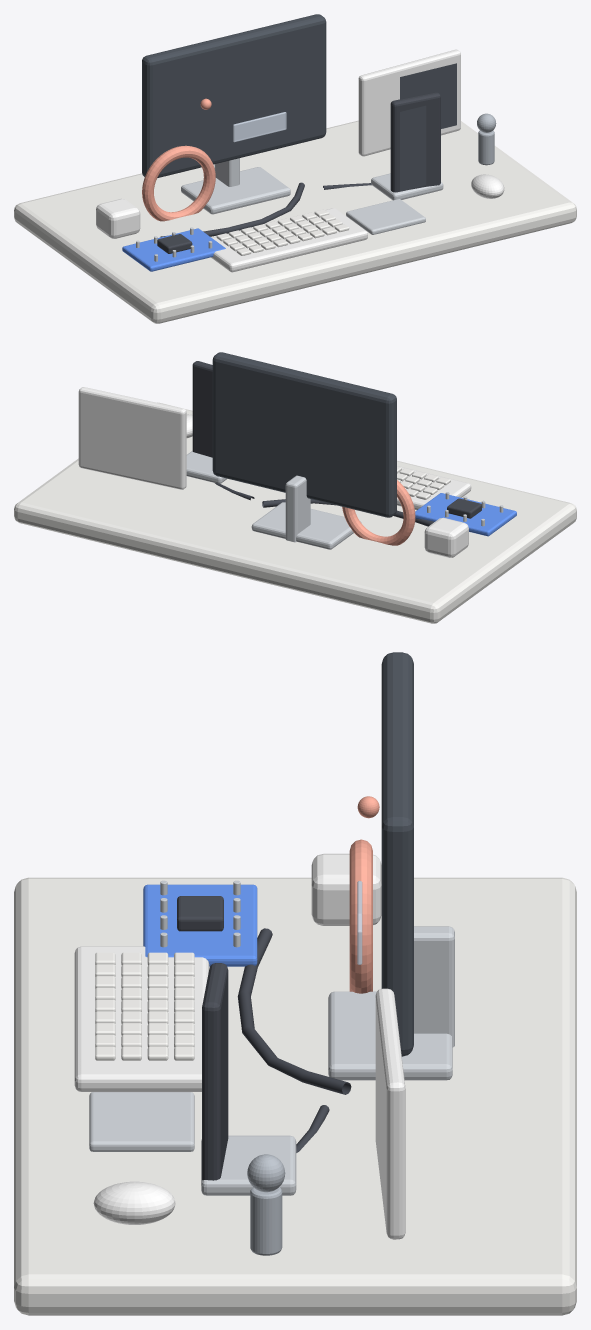
File: prototype.glb
3 renders of one model, top to bottom at view 1: azimuth 30°, elevation 25°; view 2: azimuth 150°, elevation 25°; view 3: azimuth 270°, elevation 25°, orthographic. The views are drawn at different scales.
Parts seen in each view (by area): view 1: PRO_test_bench, SCREEN_prototype_monitor, PRO_monitor_frame, PRO_tablet_frame, PRO_keyboard, PRO_phone_frame, PRO_monitor_foot, PRO_light_ring, SCREEN_prototype_phone, PRO_esp32_board, SCREEN_prototype_tablet, PRO_trackpad (+8 smaller); view 2: PRO_test_bench, PRO_monitor_frame, PRO_tablet_frame, PRO_monitor_foot, PRO_phone_frame, PRO_esp32_board, PRO_sensor, PRO_light_ring, PRO_monitor_stem, PRO_phone_stand, PRO_keyboard, PRO_esp32_chip (+1 smaller); view 3: PRO_test_bench, PRO_monitor_frame, PRO_keyboard, PRO_tablet_frame, PRO_monitor_foot, PRO_esp32_board, PRO_trackpad, PRO_phone_frame, PRO_monitor_stem, PRO_phone_stand, PRO_sensor, PRO_light_ring (+5 smaller).
Boxes of the visible parts, x1,y1,x2,y2 form: PRO_test_bench: (14, 120, 576, 323); SCREEN_prototype_monitor: (158, 31, 319, 168); PRO_monitor_frame: (142, 14, 326, 177); PRO_tablet_frame: (358, 49, 460, 156); PRO_keyboard: (211, 208, 367, 272); PRO_phone_frame: (390, 92, 440, 192); PRO_monitor_foot: (181, 167, 290, 214); PRO_light_ring: (142, 145, 215, 221); SCREEN_prototype_phone: (400, 105, 426, 191); PRO_esp32_board: (122, 228, 225, 271); SCREEN_prototype_tablet: (400, 63, 456, 128); PRO_trackpad: (346, 199, 425, 234); PRO_test_bench: (14, 402, 576, 623); PRO_monitor_frame: (212, 352, 396, 517); PRO_tablet_frame: (78, 387, 186, 489); PRO_monitor_foot: (251, 502, 361, 549); PRO_phone_frame: (192, 361, 212, 457); PRO_esp32_board: (415, 493, 516, 536); PRO_sensor: (424, 517, 468, 557); PRO_light_ring: (342, 480, 415, 545); PRO_monitor_stem: (285, 475, 310, 542); PRO_phone_stand: (186, 451, 227, 483); PRO_keyboard: (397, 466, 471, 510); PRO_esp32_chip: (447, 498, 481, 518); PRO_test_bench: (14, 877, 576, 1315); PRO_monitor_frame: (381, 652, 413, 1056); PRO_keyboard: (74, 946, 209, 1091); PRO_tablet_frame: (375, 988, 405, 1239); PRO_monitor_foot: (328, 991, 452, 1080); PRO_esp32_board: (143, 884, 257, 966); PRO_trackpad: (89, 1092, 194, 1151); PRO_phone_frame: (202, 963, 228, 1180); PRO_monitor_stem: (414, 926, 454, 1047); PRO_phone_stand: (201, 1135, 296, 1195); PRO_sensor: (311, 853, 381, 925); PRO_light_ring: (349, 839, 372, 993).
Size of the model in its own units: 6.6 by 2.62 by 3.85.
